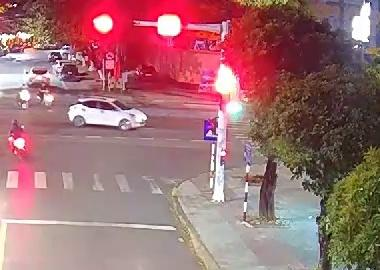red_light: (153, 12, 185, 39), (90, 10, 118, 35)
stop_line: (3, 219, 175, 230)
